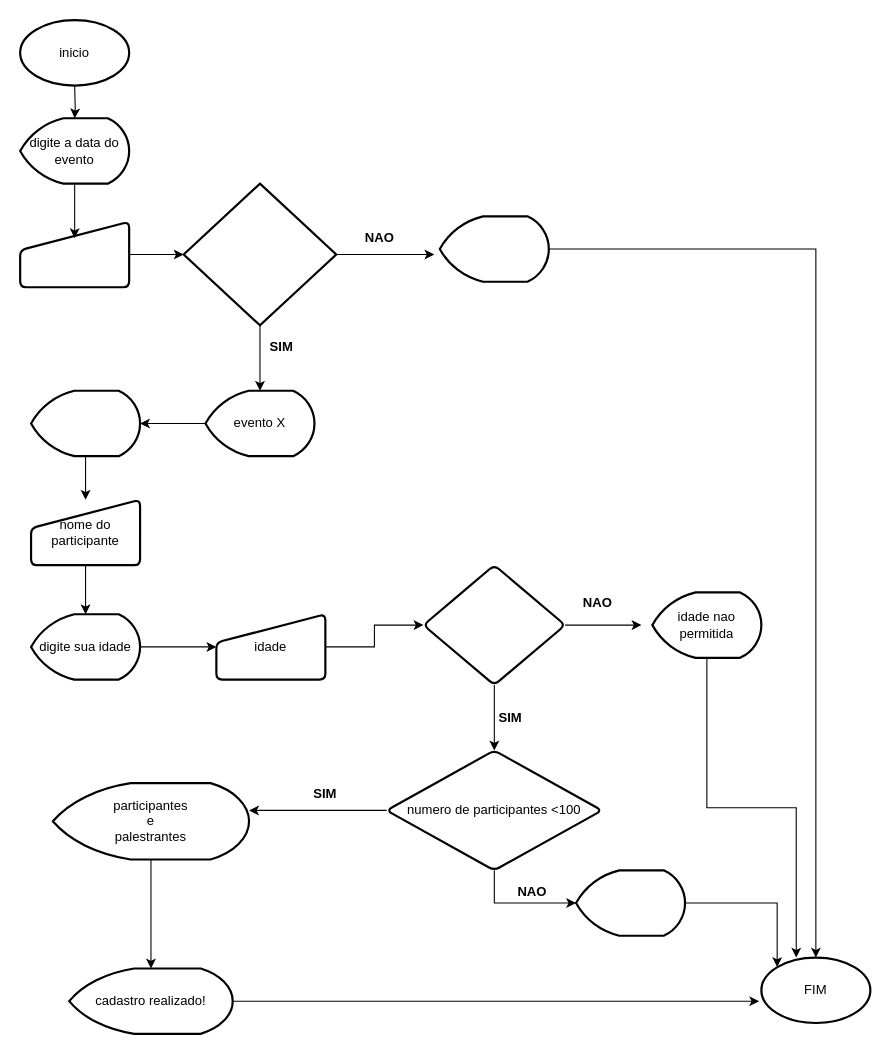
Image size: 889x1053. Some labels were removed from this diagram. The box of each missing label's shape, as (x1, y1, x2, y2) in pixels:
data: (19, 220, 130, 288)
data do evento > data atual: (182, 182, 337, 326)
data invalida: (438, 215, 549, 282)
digite seu nome: (29, 389, 141, 457)
idade >=18: (422, 564, 566, 686)
Nao a vagas disponiveis: (574, 869, 686, 936)
